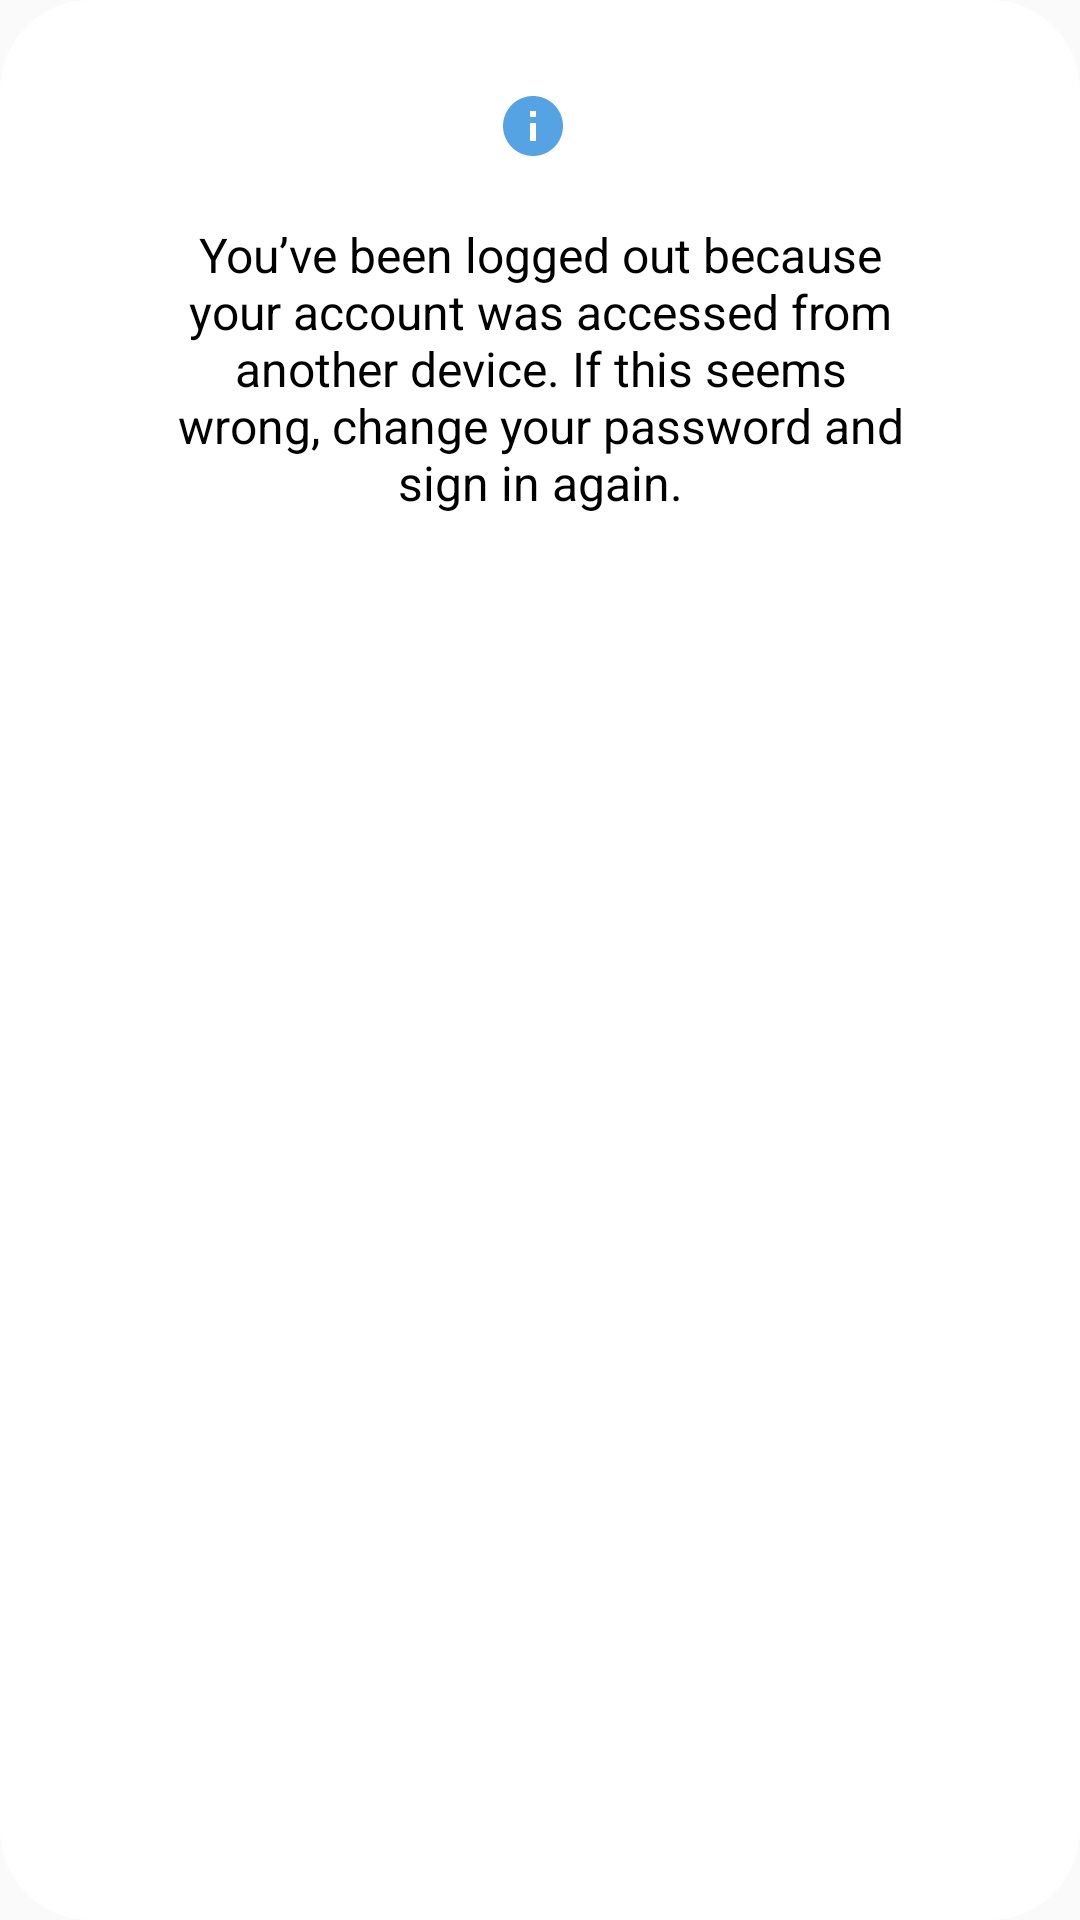

Screen size 1080x1920. Icon name, then its center in pixels as [x,y]:
info: [533,126]
